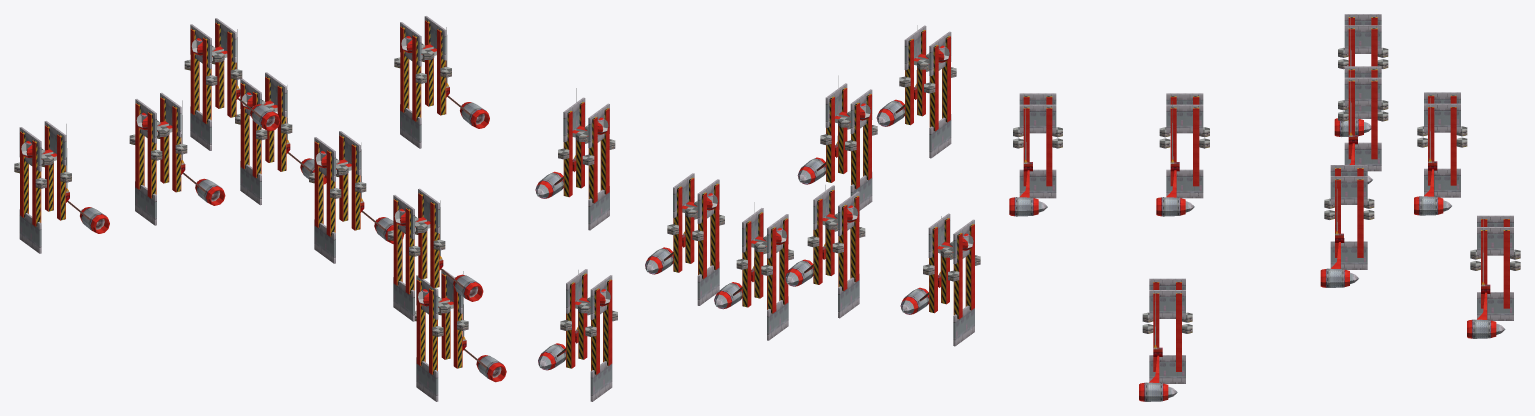
The model's file is 2PEgg_fleet9.obj.
3 renders of one model, left to right at view 1: azimuth 30°, elevation 25°; view 2: azimuth 150°, elevation 25°; view 3: azimuth 270°, elevation 25°, orthographic. The views are drawn at different scales.
Visible parts, largest first — view 1: Object_2; view 2: Object_2; view 3: Object_2.
Part boxes in pixels (left/top/right/bottom): Object_2: left=14, top=16, right=506, bottom=401; Object_2: left=535, top=25, right=980, bottom=401; Object_2: left=1009, top=14, right=1520, bottom=401.
Size of the model in its own units: 2334 by 1435 by 2489.
